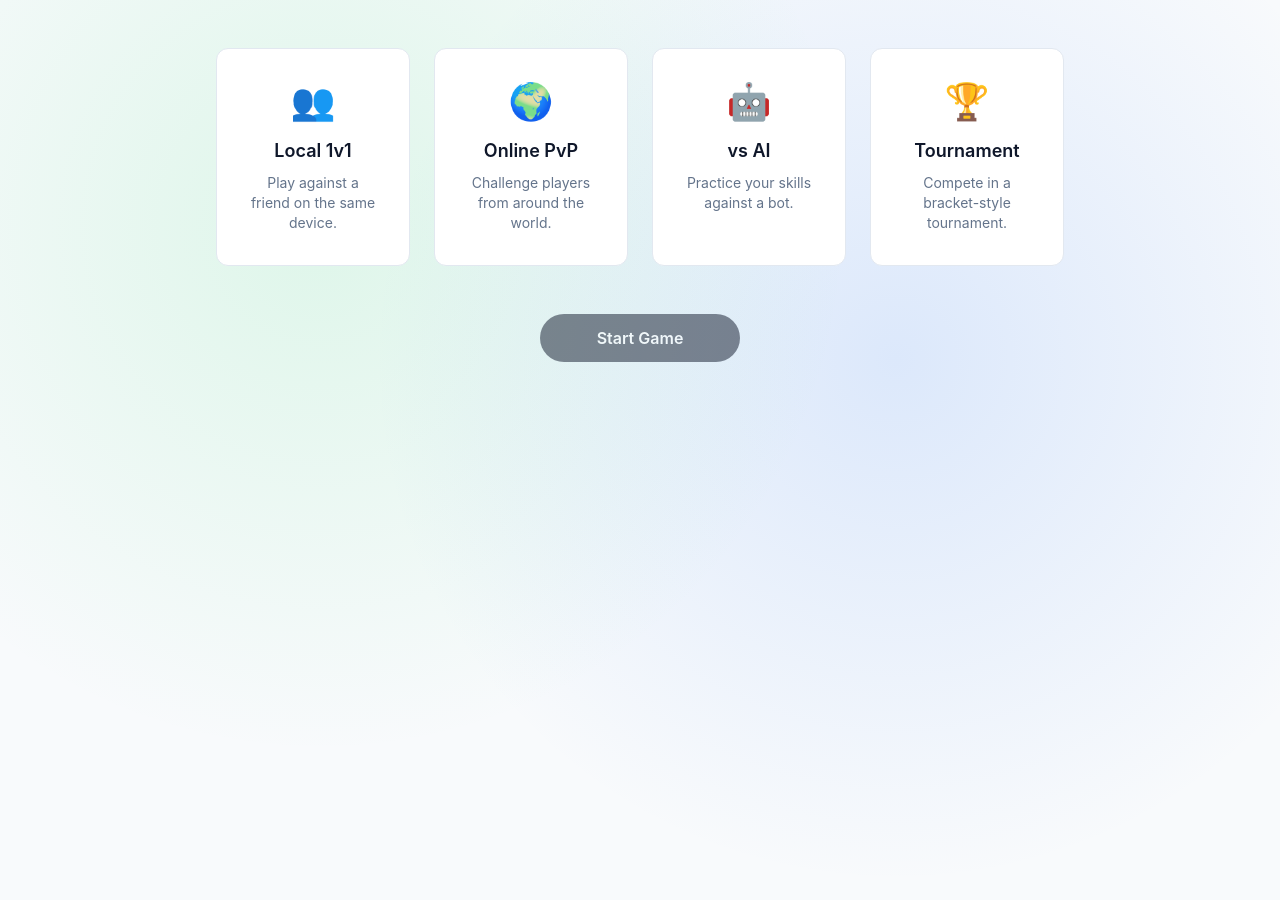
Test: GameLobbyPage › shows sub-options when remote mode is selected
Click the heading "Online PvP" at [531, 151], box [484,137,578,165]
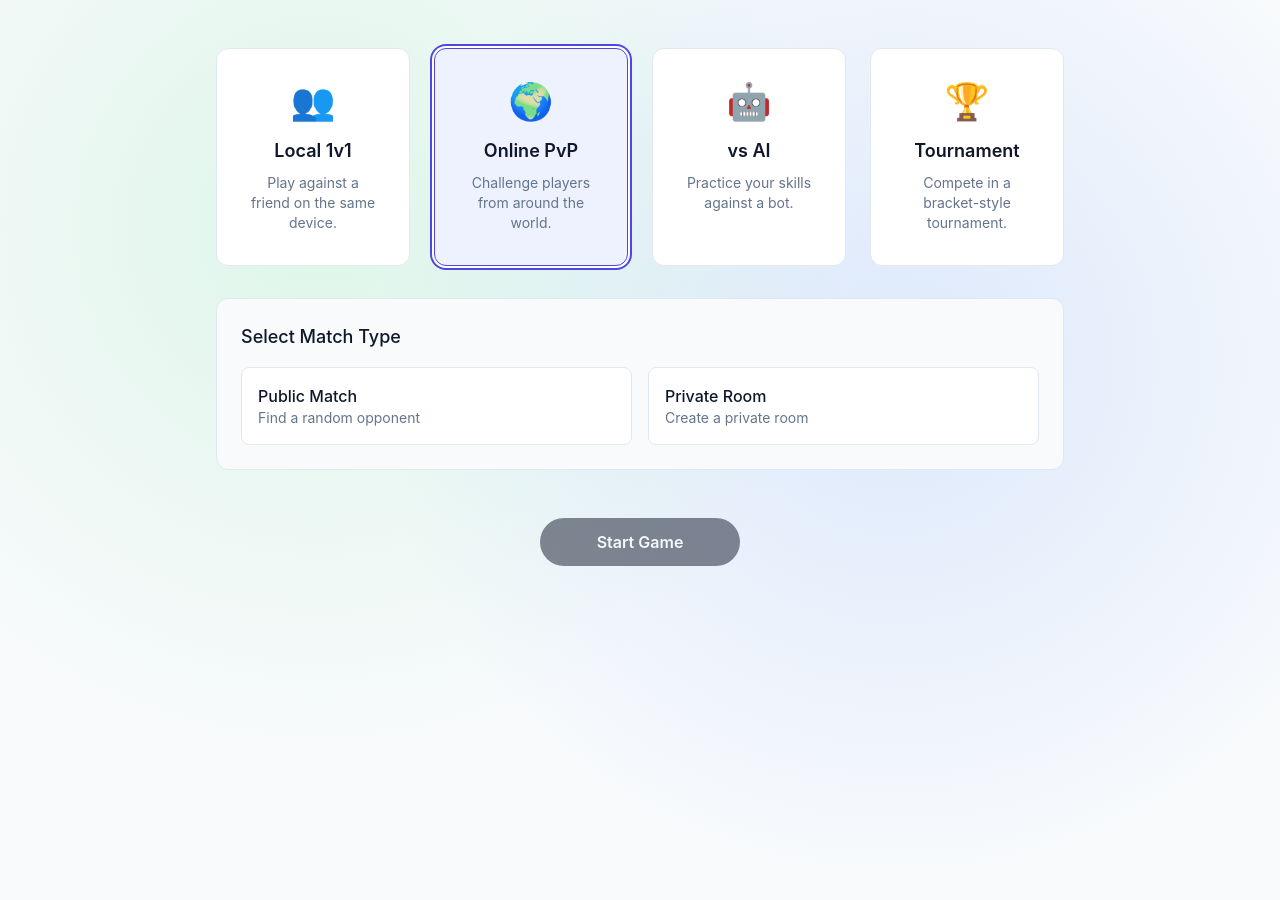
Expected: the heading "Select Match Type" is shown, [241,326,401,347]
Expected: the text "Public Match" is shown, [258,386,357,406]
Expected: the text "Private Room" is shown, [665,386,766,406]
